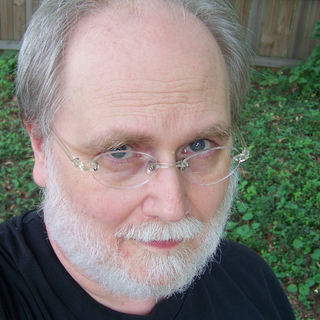eye: (96, 142, 155, 167), (180, 135, 226, 159)
